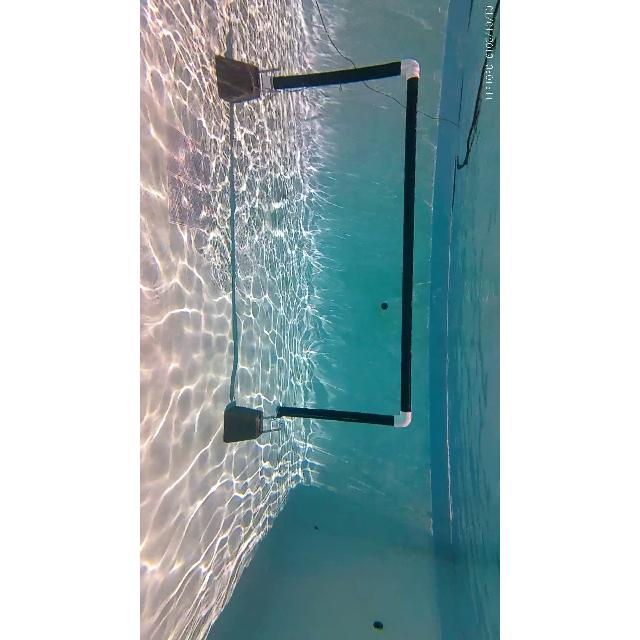prequal gate: (260, 56, 422, 428)
prequal gate leg l: (255, 56, 429, 94)
prequal gate leg r: (259, 400, 419, 434)
